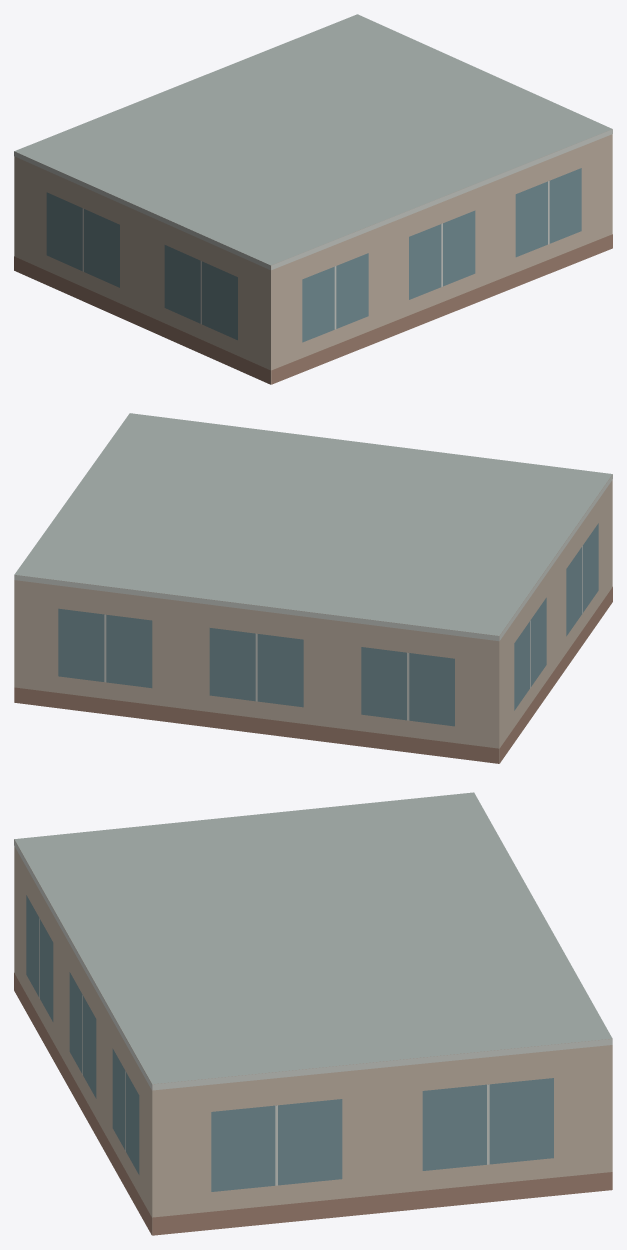
File: survey-upis-32607172.glb
The picture shows the model from 3 angles, top to bottom: view 1: azimuth 30°, elevation 25°; view 2: azimuth 150°, elevation 25°; view 3: azimuth 270°, elevation 25°; orthographic projection. The views are drawn at different scales.
Visible parts, largest first — view 1: survey-upis-32607172.tmp; view 2: survey-upis-32607172.tmp; view 3: survey-upis-32607172.tmp.
Boxes of the visible parts, bbox=[...] form: survey-upis-32607172.tmp: bbox=[14, 14, 612, 384]; survey-upis-32607172.tmp: bbox=[14, 413, 612, 763]; survey-upis-32607172.tmp: bbox=[14, 792, 612, 1235].
Size of the model in its own units: 12.64 by 3.05 by 10.95.
